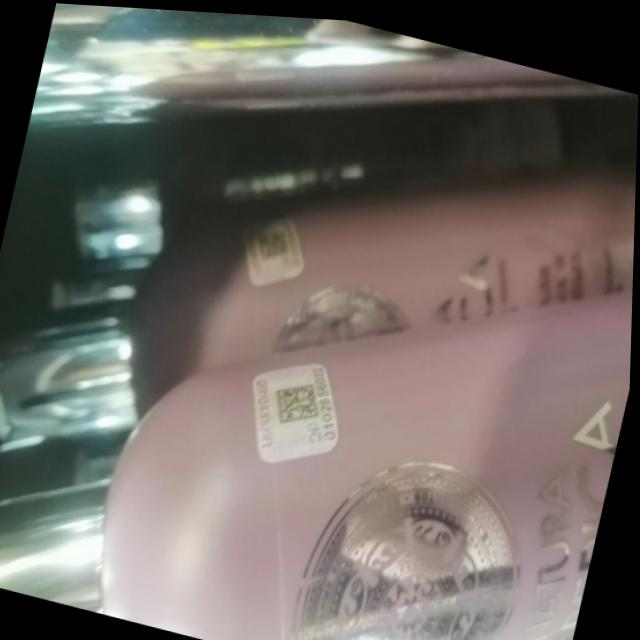datamatrix: (271, 369, 329, 430)
